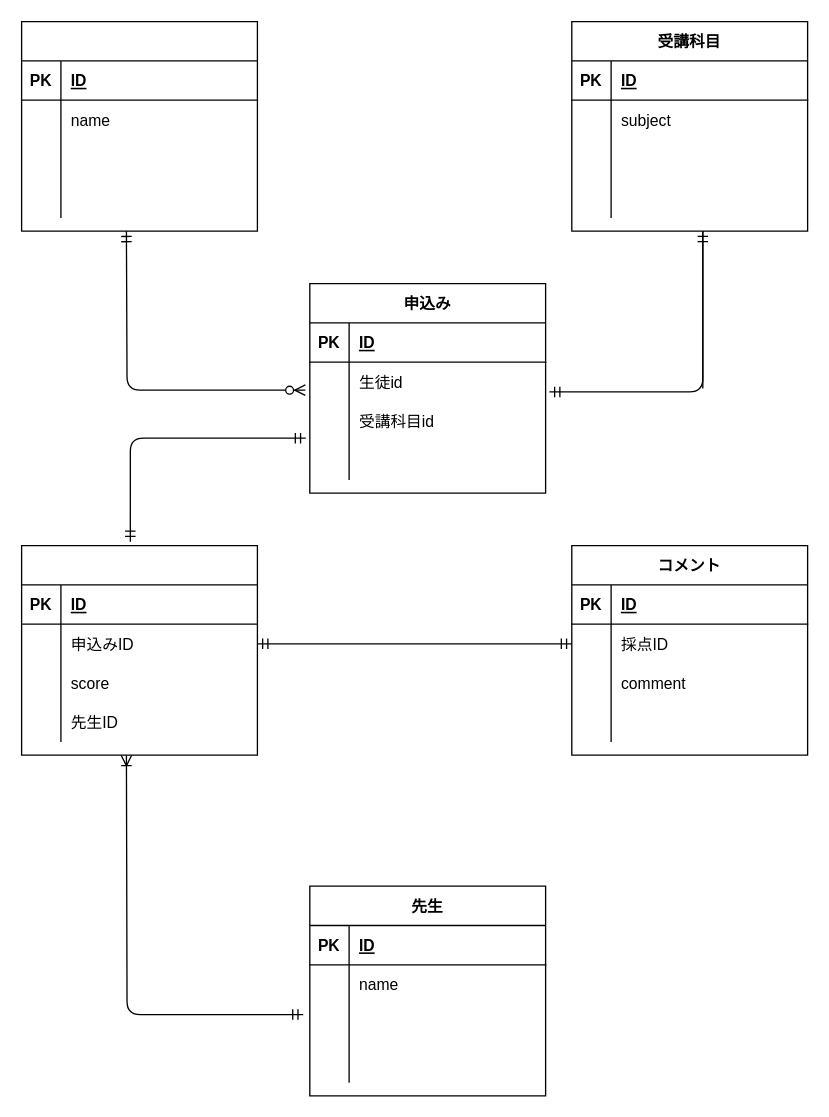
Image size: 829x1117. Some labels were removed from this diagram. The box of each missing label's shape, as (x1, y1, x2, y2) in pixels:
採点: (20, 544, 257, 755)
生徒: (20, 20, 257, 231)
